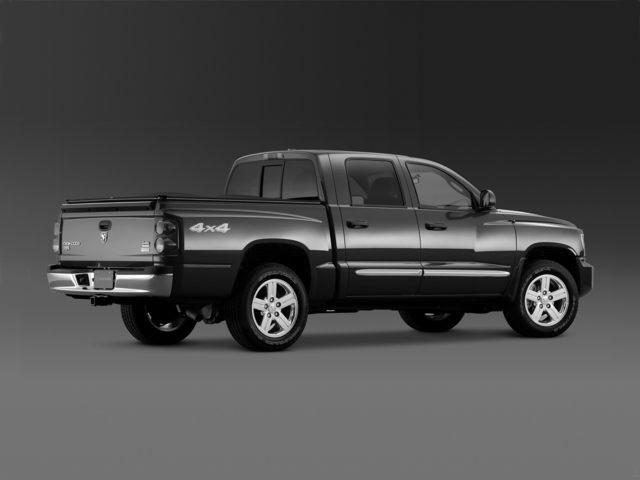car: (41, 144, 600, 359)
